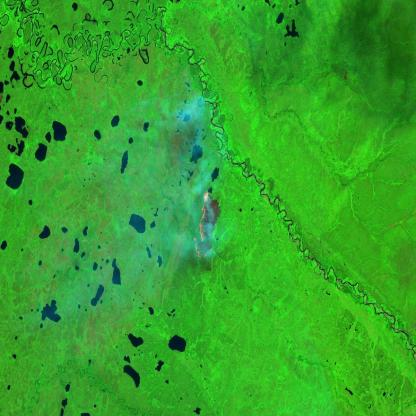fire: (190, 186, 225, 262)
